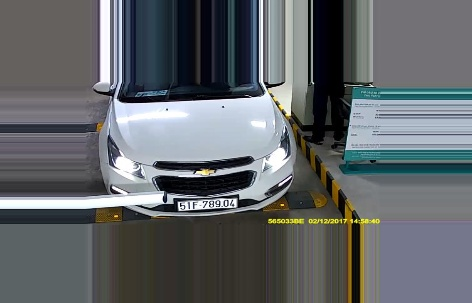plate: (171, 195, 238, 210)
